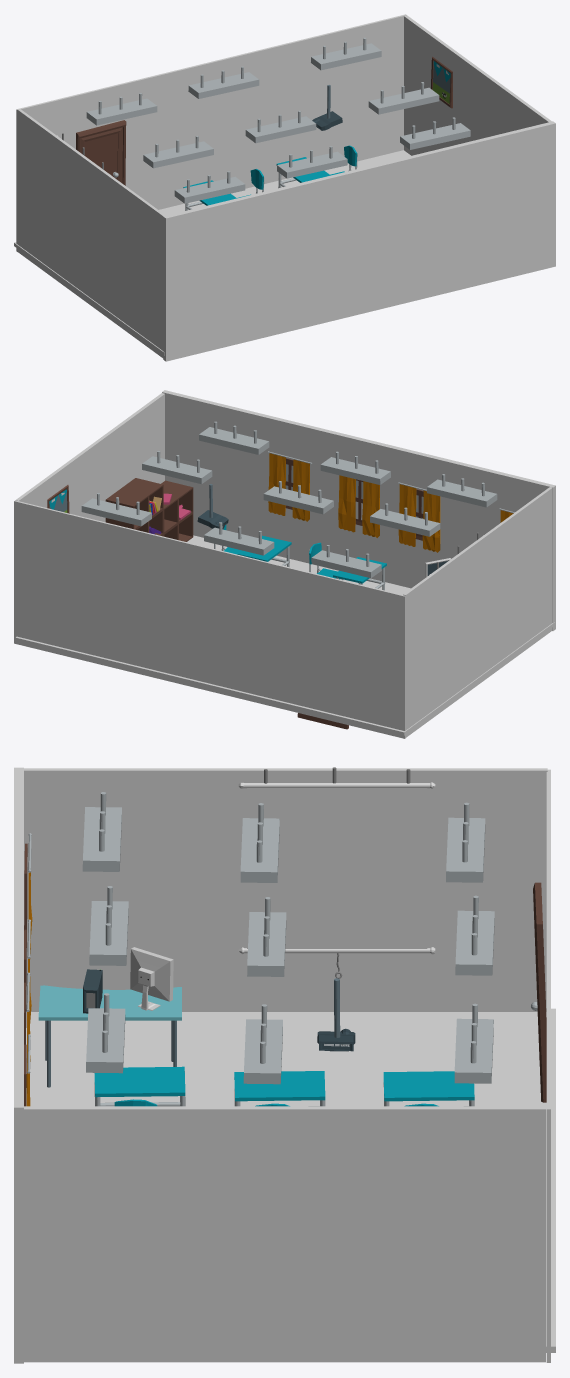
3 views of the same model, one above another, from view 1: azimuth 30°, elevation 25°; view 2: azimuth 150°, elevation 25°; view 3: azimuth 270°, elevation 25° (orthographic). The views are drawn at different scales.
Parts seen in each view (by area): view 1: node_MeshObject718216768-PolyPaper21, node_MeshObject-744359232-PolyPaper17, node_MeshObject957526720-PolyPaper15, node_MeshObject1709566784-PolyPaper17; view 2: node_MeshObject718216768-PolyPaper21, node_MeshObject-744359232-PolyPaper17, node_MeshObject957526720-PolyPaper15, node_MeshObject1709566784-PolyPaper17; view 3: node_MeshObject957526720-PolyPaper15, node_MeshObject-744359232-PolyPaper17, node_MeshObject718216768-PolyPaper21, node_MeshObject1709566784-PolyPaper17.
Boxes of the visible parts, left/top/right/bottom form: node_MeshObject718216768-PolyPaper21: left=14, top=14, right=555, bottom=361; node_MeshObject-744359232-PolyPaper17: left=17, top=37, right=381, bottom=358; node_MeshObject957526720-PolyPaper15: left=62, top=15, right=551, bottom=171; node_MeshObject1709566784-PolyPaper17: left=143, top=82, right=470, bottom=178; node_MeshObject718216768-PolyPaper21: left=14, top=390, right=555, bottom=738; node_MeshObject-744359232-PolyPaper17: left=81, top=474, right=552, bottom=737; node_MeshObject957526720-PolyPaper15: left=15, top=393, right=514, bottom=590; node_MeshObject1709566784-PolyPaper17: left=142, top=421, right=440, bottom=536; node_MeshObject957526720-PolyPaper15: left=23, top=767, right=545, bottom=1362; node_MeshObject-744359232-PolyPaper17: left=24, top=768, right=547, bottom=1106; node_MeshObject718216768-PolyPaper21: left=14, top=767, right=555, bottom=1363; node_MeshObject1709566784-PolyPaper17: left=86, top=803, right=286, bottom=1084.
Bounding box in the file's own units: 9.56 × 3.75 × 6.43.
